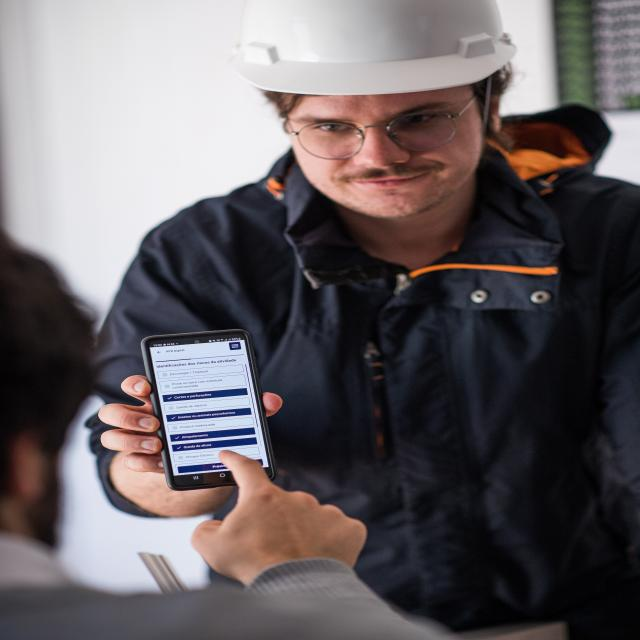capacete: (222, 0, 525, 100)
